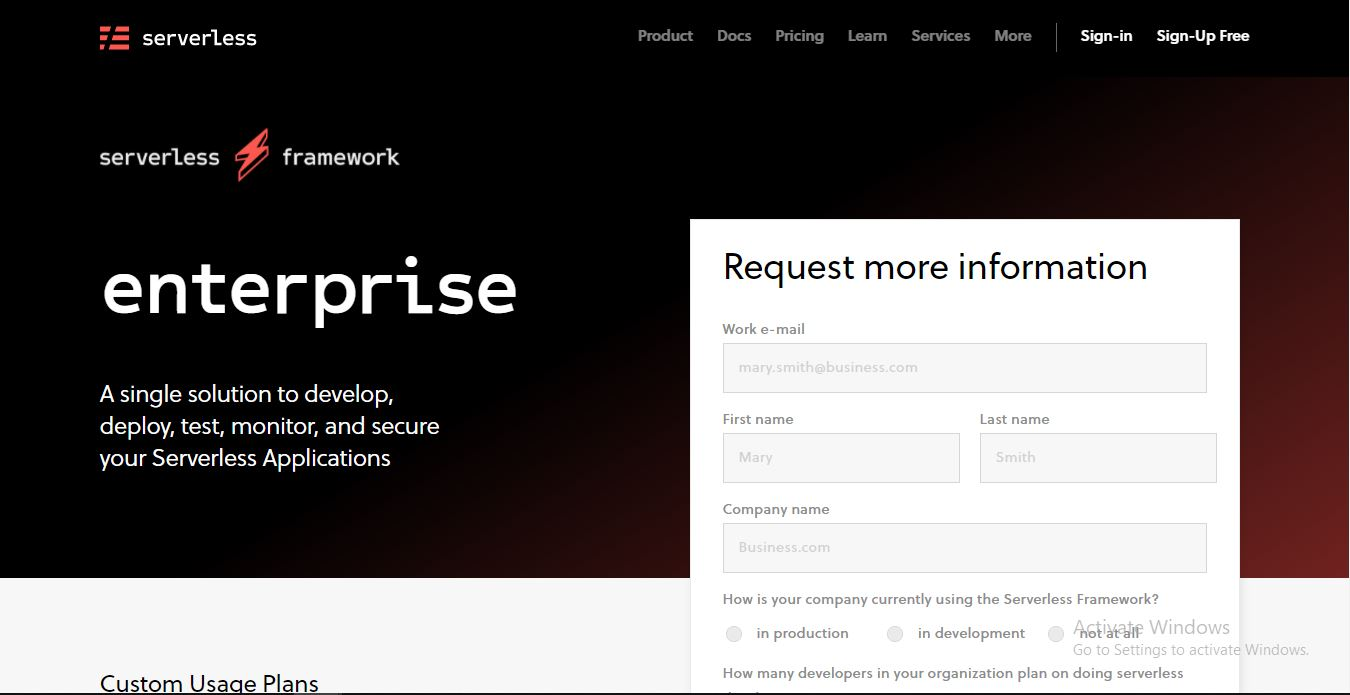Menu Bar: (629, 0, 1057, 65)
Side Bar: (689, 218, 1242, 695)
Text Field: (729, 336, 1211, 395), (723, 523, 1213, 576), (721, 429, 964, 489), (980, 429, 1217, 489)
